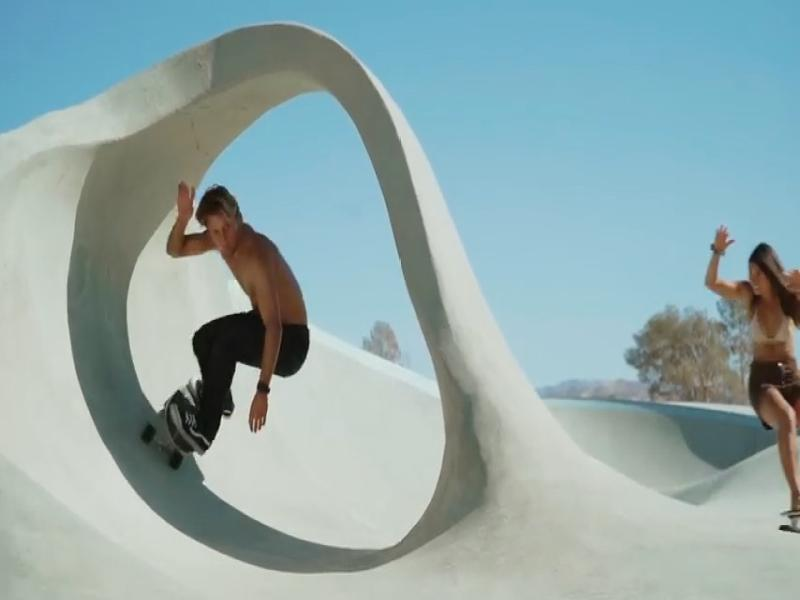person: (158, 181, 309, 468), (706, 227, 800, 532)
